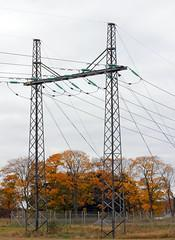power_tower: (15, 16, 148, 230)
